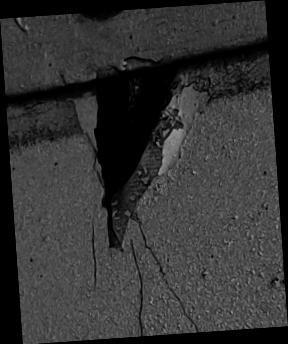crack: (1, 0, 288, 344)
